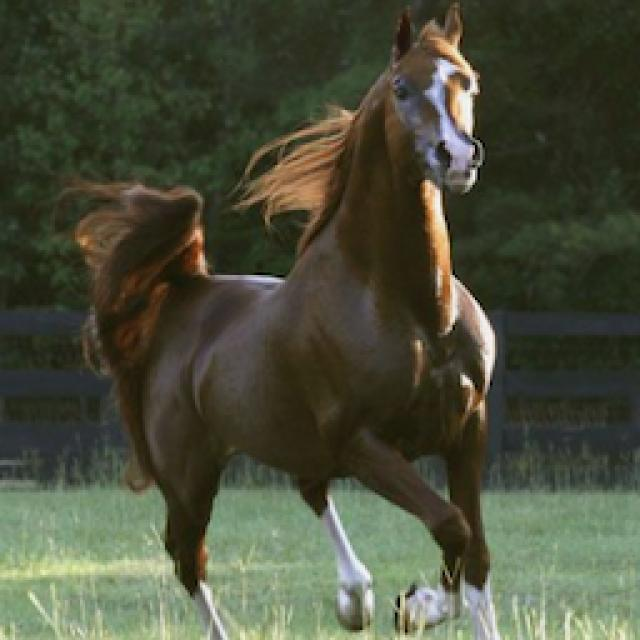Horse: (55, 0, 523, 638)
